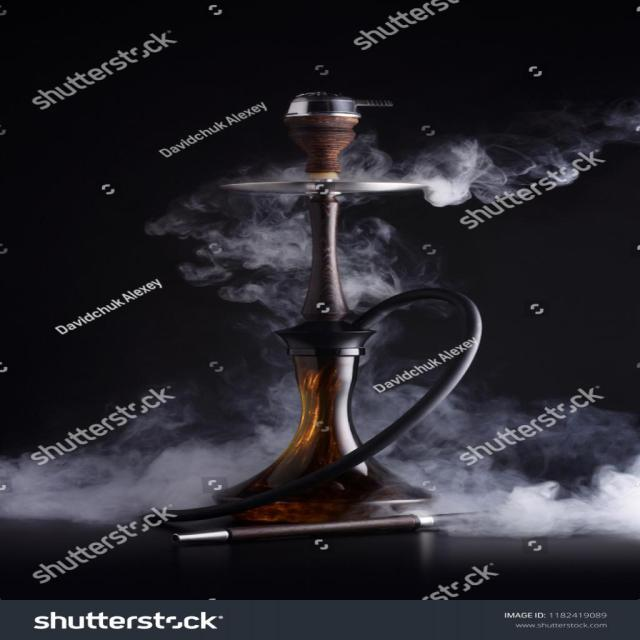smoking: (156, 74, 520, 591)
